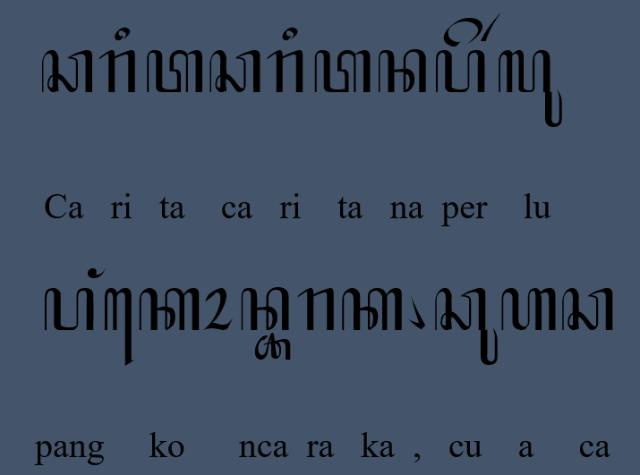_c: (254, 332, 292, 362)
_r1: (480, 11, 502, 44)
c: (40, 48, 94, 94), (560, 287, 614, 333), (209, 49, 261, 95)
cu: (434, 288, 498, 366)
e: (443, 16, 483, 48)
e1: (104, 288, 134, 366)
h: (500, 288, 558, 332)
i: (114, 26, 130, 42), (282, 26, 298, 42)
k: (138, 286, 200, 332), (341, 288, 404, 333)
kom: (407, 294, 425, 330)
lu: (497, 49, 563, 129)
n: (378, 48, 428, 94), (240, 286, 290, 332)
ng: (86, 267, 106, 279)
o: (203, 286, 233, 332)
p: (433, 48, 485, 94), (44, 286, 96, 332)
r: (266, 49, 304, 95), (98, 50, 136, 95), (297, 288, 335, 333)
t: (146, 48, 204, 94), (314, 48, 372, 94)
